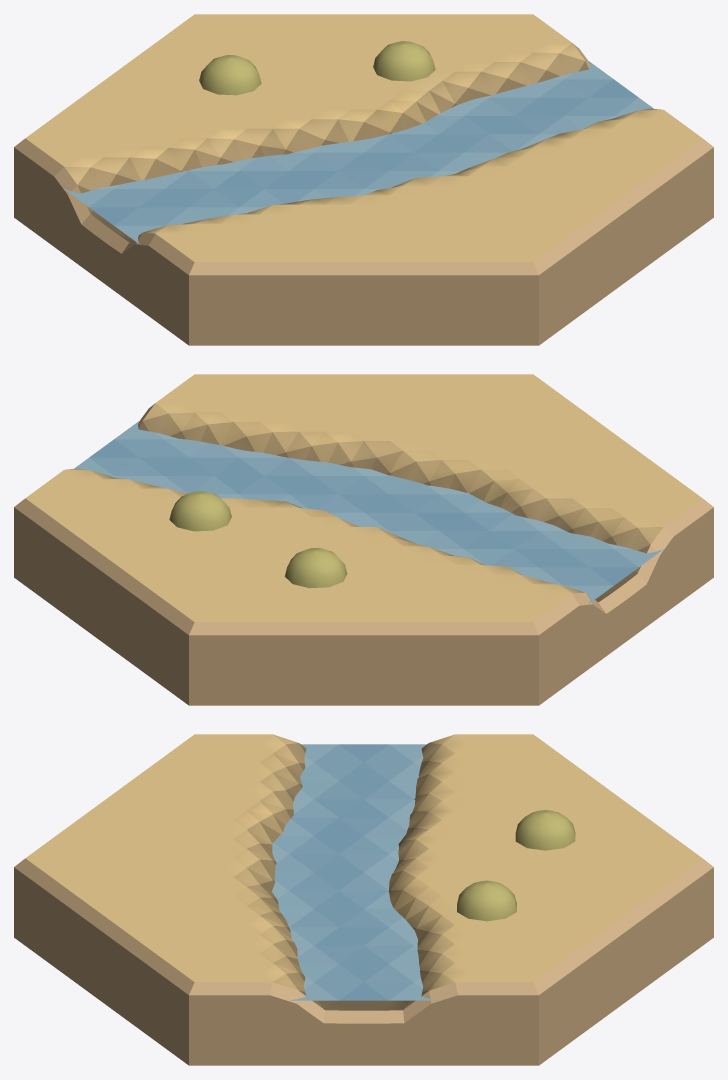
Rendered from river_straight_dry_3.fbx.
3 views of the same model, one above another, from view 1: azimuth 30°, elevation 25°; view 2: azimuth 150°, elevation 25°; view 3: azimuth 270°, elevation 25° (orthographic).
Parts seen in each view (by area): view 1: river_straight_dry_3; view 2: river_straight_dry_3; view 3: river_straight_dry_3.
Boxes of the visible parts, x1=… form: river_straight_dry_3: x1=14, y1=14, x2=713, y2=345; river_straight_dry_3: x1=14, y1=374, x2=713, y2=705; river_straight_dry_3: x1=14, y1=734, x2=713, y2=1065.
Size of the model in its own units: 1.73 by 0.3265 by 2.
